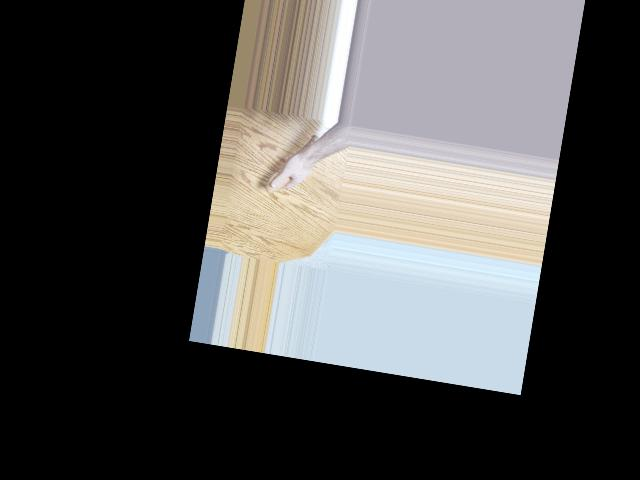sweet_potato: (265, 126, 322, 200)
